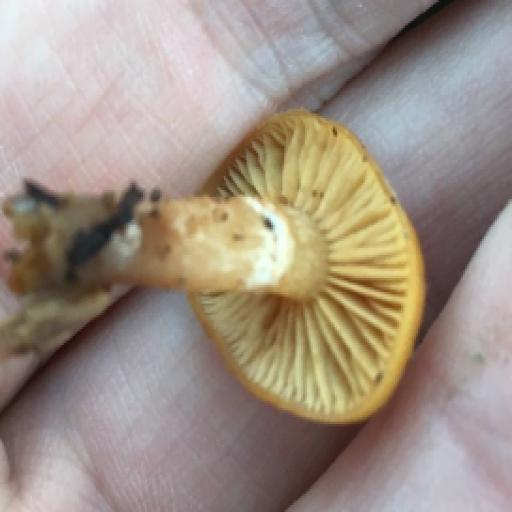Funeral Bell: (10, 104, 433, 432)
